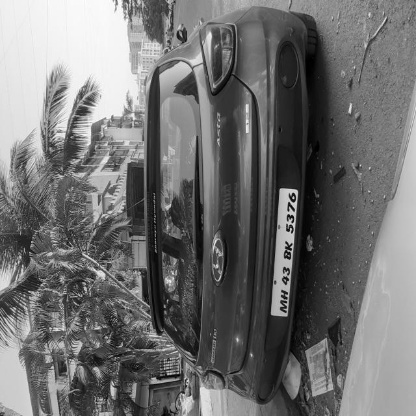car: (8, 291, 199, 416)
